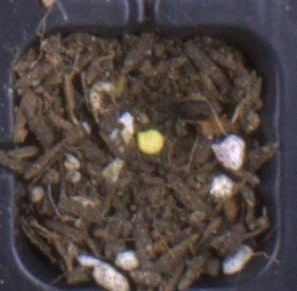chilli seed: (136, 129, 164, 155)
